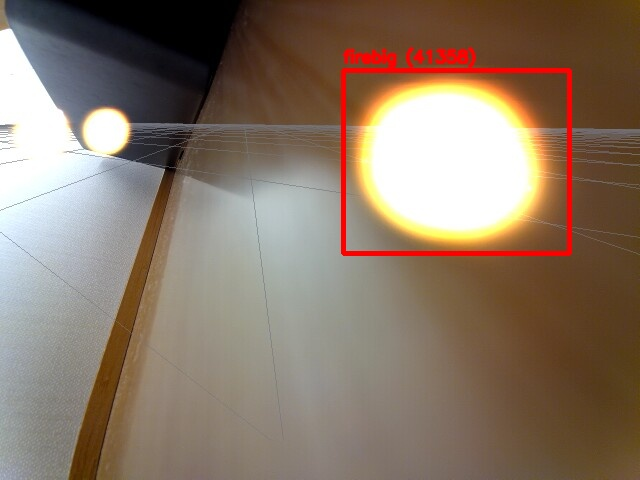firebig: (343, 70, 569, 253)
